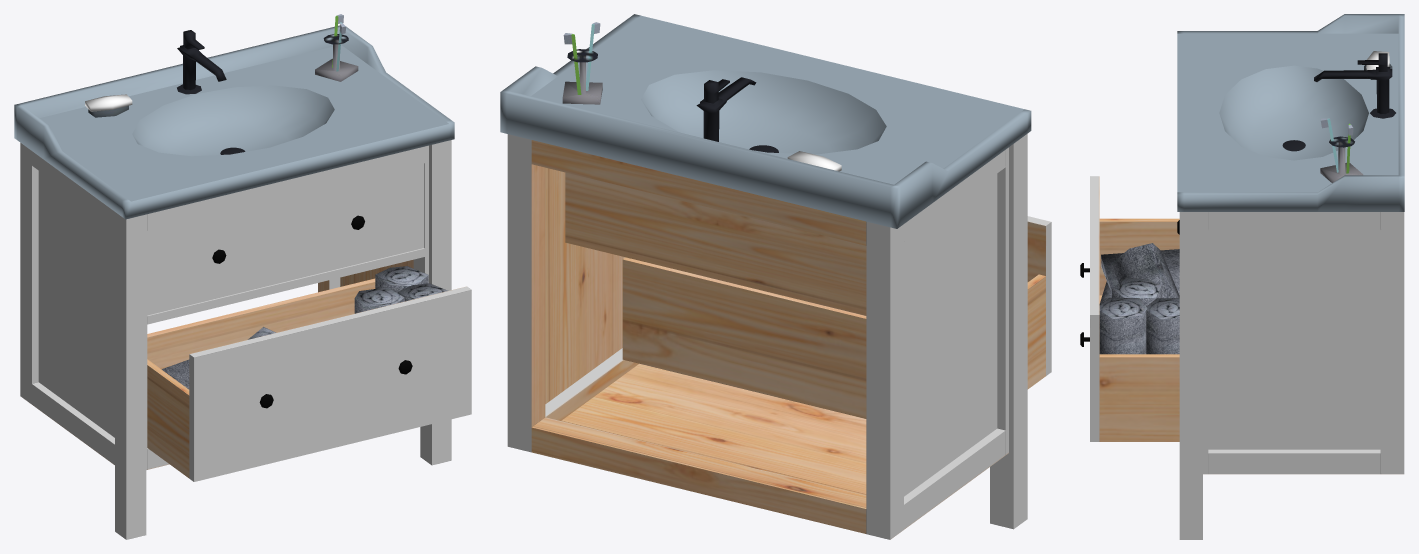
3 views of the same model, side by side, from view 1: azimuth 30°, elevation 25°; view 2: azimuth 150°, elevation 25°; view 3: azimuth 270°, elevation 25° (orthographic). The views are drawn at different scales.
Visible parts, largest first — view 1: frame_0; view 2: frame_0; view 3: frame_0.
Boxes of the visible parts, <box> form: frame_0: <box>14,14,471,539</box>; frame_0: <box>500,14,1051,539</box>; frame_0: <box>1080,14,1404,539</box>.
Size of the model in its own units: 0.8737 by 1 by 0.7294.
